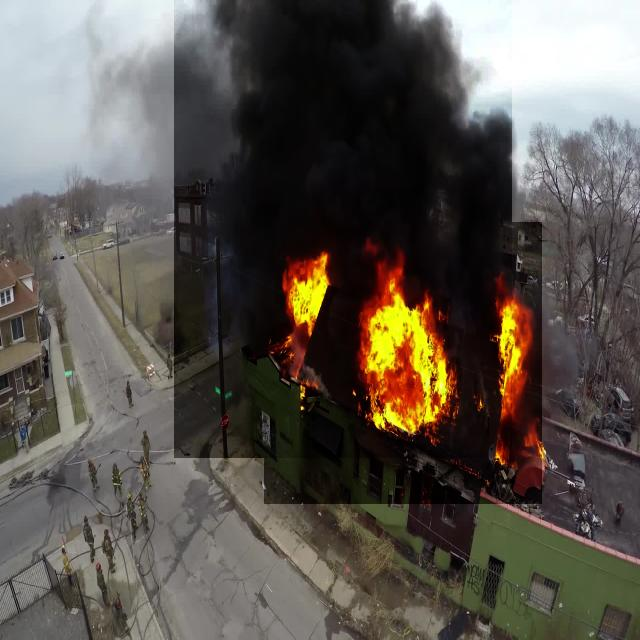Fire: (264, 222, 542, 504)
Smoke: (175, 0, 512, 458)
